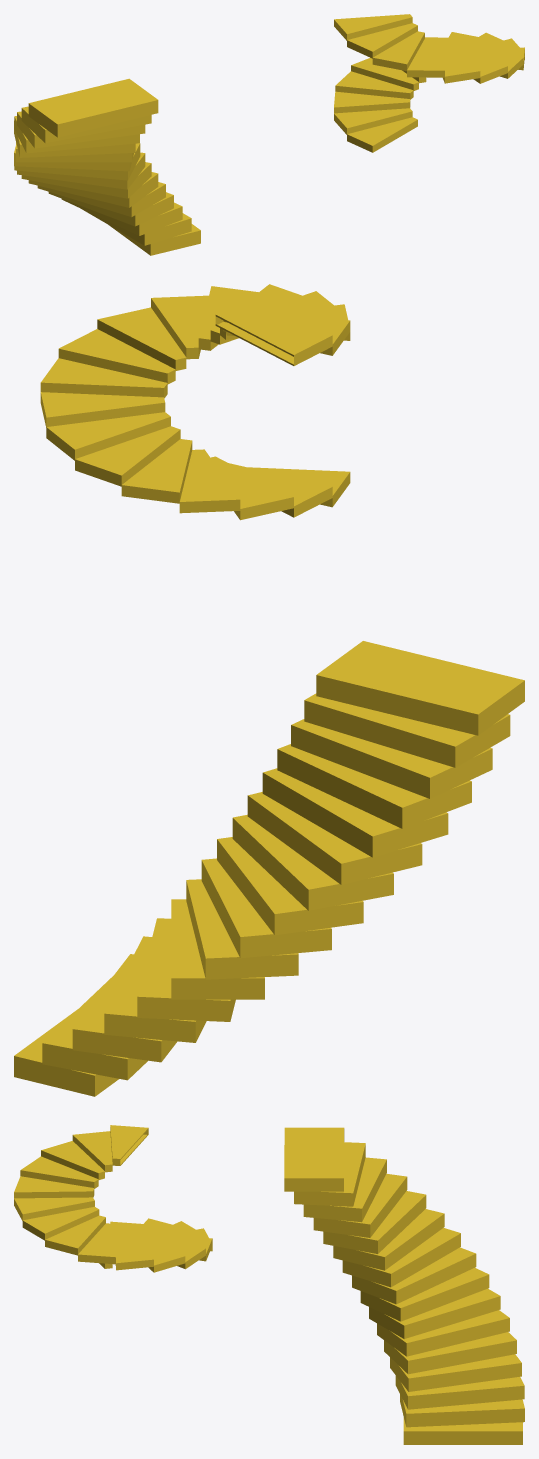
Rendered from maze1_5st_face.fbx.
3 views of the same model, one above another, from view 1: azimuth 30°, elevation 25°; view 2: azimuth 150°, elevation 25°; view 3: azimuth 270°, elevation 25° (orthographic). The views are drawn at different scales.
Parts seen in each view (by area): view 1: FFORM.003, UnrealEdObject.006; view 2: FFORM.003, UnrealEdObject.006; view 3: FFORM.003, UnrealEdObject.006.
Part boxes in pixels (bbox=[...]): FFORM.003: bbox=[14, 78, 200, 255]; UnrealEdObject.006: bbox=[334, 14, 524, 152]; FFORM.003: bbox=[14, 641, 524, 1096]; UnrealEdObject.006: bbox=[40, 284, 350, 520]; FFORM.003: bbox=[284, 1127, 524, 1444]; UnrealEdObject.006: bbox=[14, 1125, 212, 1272].
Size of the model in its own units: 4770 by 3820 by 5506.
